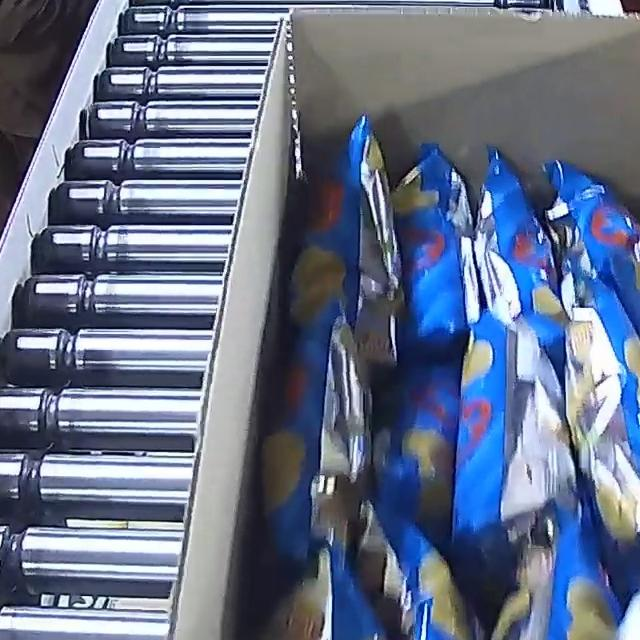paprika: (237, 108, 640, 640)
